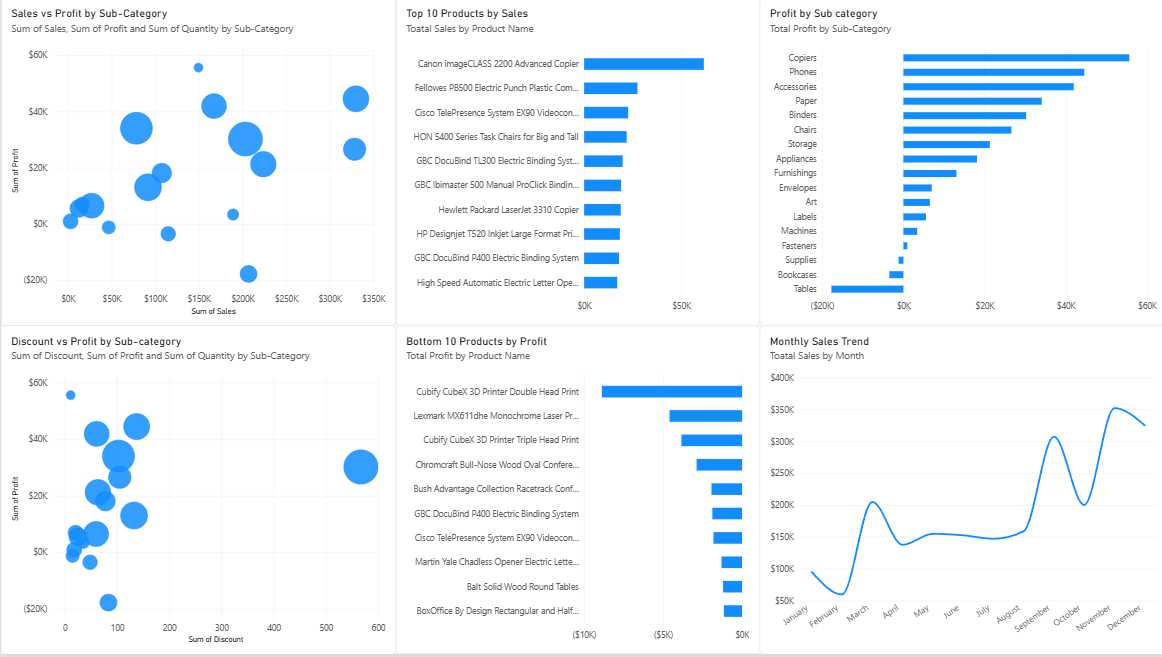

This screenshot's page, from the dashboard's own definition file:
{"tool":"powerbi","page":{"name":"Exploratory Analysis","canvas":[1920,1080],"ordinal":1},"visuals":[{"type":"scatterChart","title":"Sales vs Profit by Sub-Category","fields":{"Category":["Superstore.Sub-Category"],"Size":["Sum(Superstore.Quantity)"],"X":["Sum(Superstore.Sales)"],"Y":["Sum(Superstore.Profit)"]},"box":[0,0,650.4,539.3],"z":0},{"type":"scatterChart","title":"Discount vs Profit by Sub-category","fields":{"Category":["Superstore.Sub-Category"],"Size":["Sum(Superstore.Quantity)"],"X":["Sum(Superstore.Discount)"],"Y":["Sum(Superstore.Profit)"]},"box":[0,539.3,650.4,541.3],"z":1000},{"type":"clusteredBarChart","title":"Profit by Sub category","fields":{"Category":["Superstore.Sub-Category"],"Y":["Superstore.Total Profit"]},"box":[1249.4,0,671,539.3],"z":2000},{"type":"lineChart","title":"Monthly Sales Trend","fields":{"Category":["Superstore.Order Date.Variation.Date Hierarchy.Month","Superstore.Order Date.Variation.Date Hierarchy.Day"],"Y":["Superstore.Toatal Sales"]},"box":[1249.4,539.3,671,541.3],"z":3000},{"type":"clusteredBarChart","title":"Top 10 Products by Sales","fields":{"Category":["Superstore.Product Name"],"Y":["Superstore.Toatal Sales"]},"box":[650.4,0,599,539.3],"z":4000},{"type":"clusteredBarChart","title":"Bottom 10 Products by Profit","fields":{"Category":["Superstore.Product Name"],"Y":["Superstore.Total Profit"]},"box":[650,539,599,541],"z":5000}]}

Visuals, with their boxes in screenshot pixels (x1, y1, x2, y2), scaled from the page's 1920x1080 canvas onto the 1162x657 screenshot:
"Sales vs Profit by Sub-Category" scatterChart: locate(0, 0, 394, 328)
"Discount vs Profit by Sub-category" scatterChart: locate(0, 328, 394, 656)
"Profit by Sub category" clusteredBarChart: locate(756, 0, 1161, 328)
"Monthly Sales Trend" lineChart: locate(756, 328, 1161, 656)
"Top 10 Products by Sales" clusteredBarChart: locate(394, 0, 756, 328)
"Bottom 10 Products by Profit" clusteredBarChart: locate(393, 328, 756, 656)
